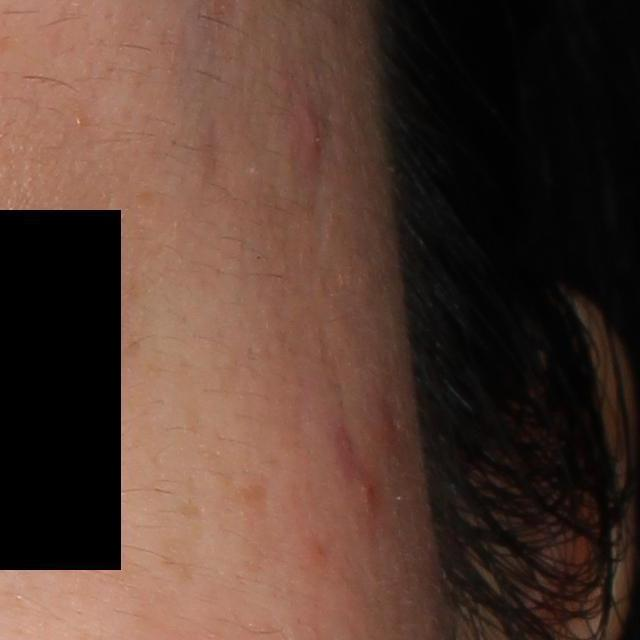melasma: (201, 448, 270, 540), (158, 537, 194, 585)
papule: (300, 107, 324, 170), (356, 478, 380, 511)
